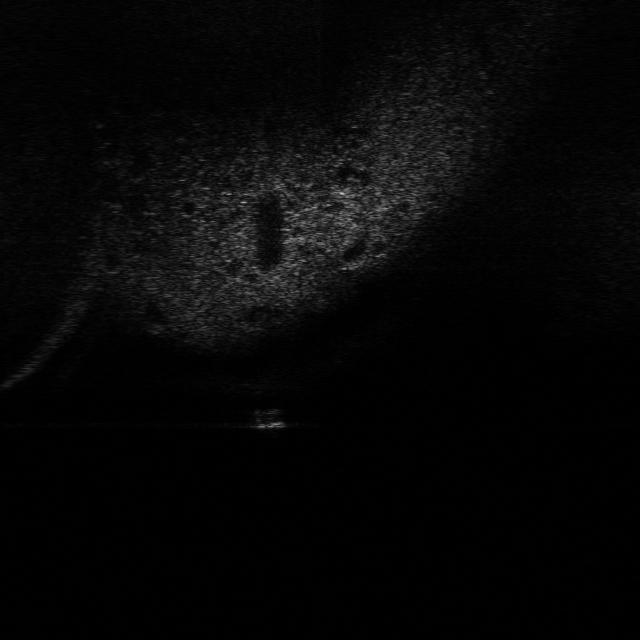cube: (243, 404, 291, 433)
